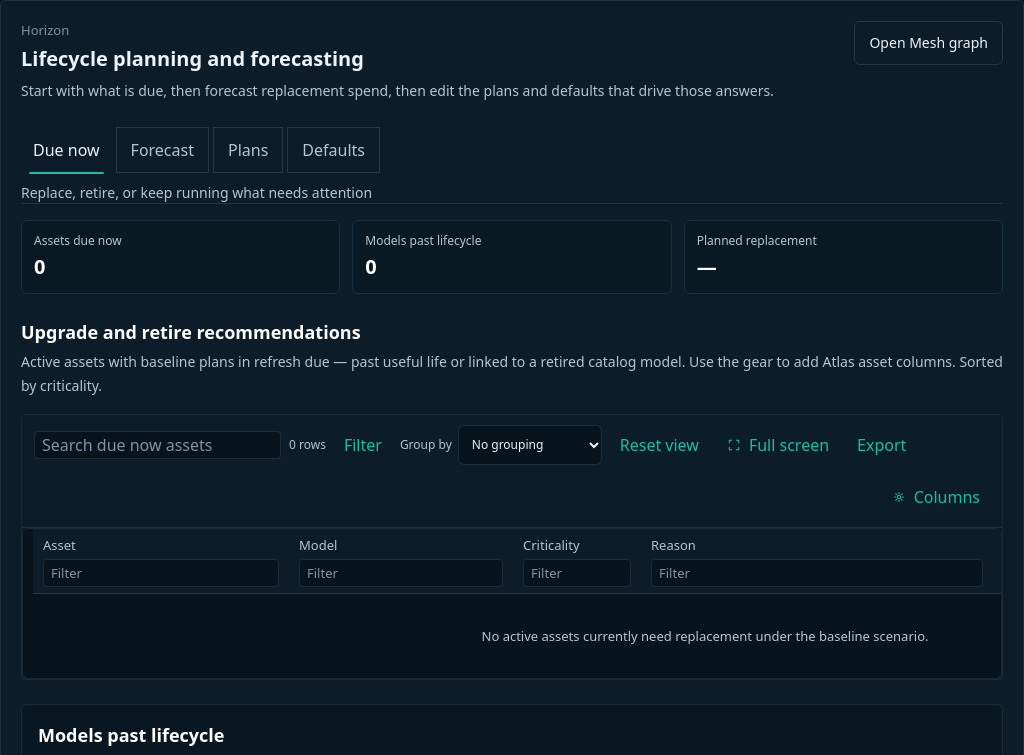
Scenario: lists named replacement plans with asset counts on the Plans tab
Click the tab "Plans" at [248, 150], box [213,126,283,172]
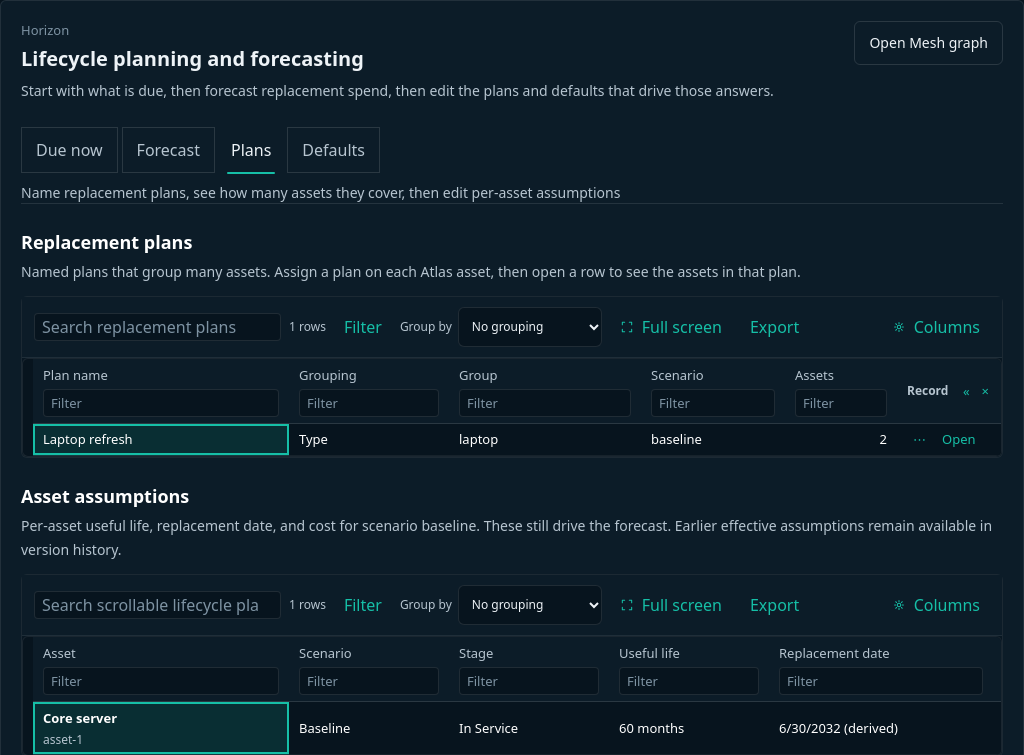
Check: the heading "Replacement plans" is shown, box [21,230,192,254]
Check: the text "Laptop refresh" is shown, box [33,424,289,456]
Check: the text "2" is shown, box [785,424,897,456]
Click the button with aria-label "Open Laptop refresh" at [959, 439], box [936,427,982,451]
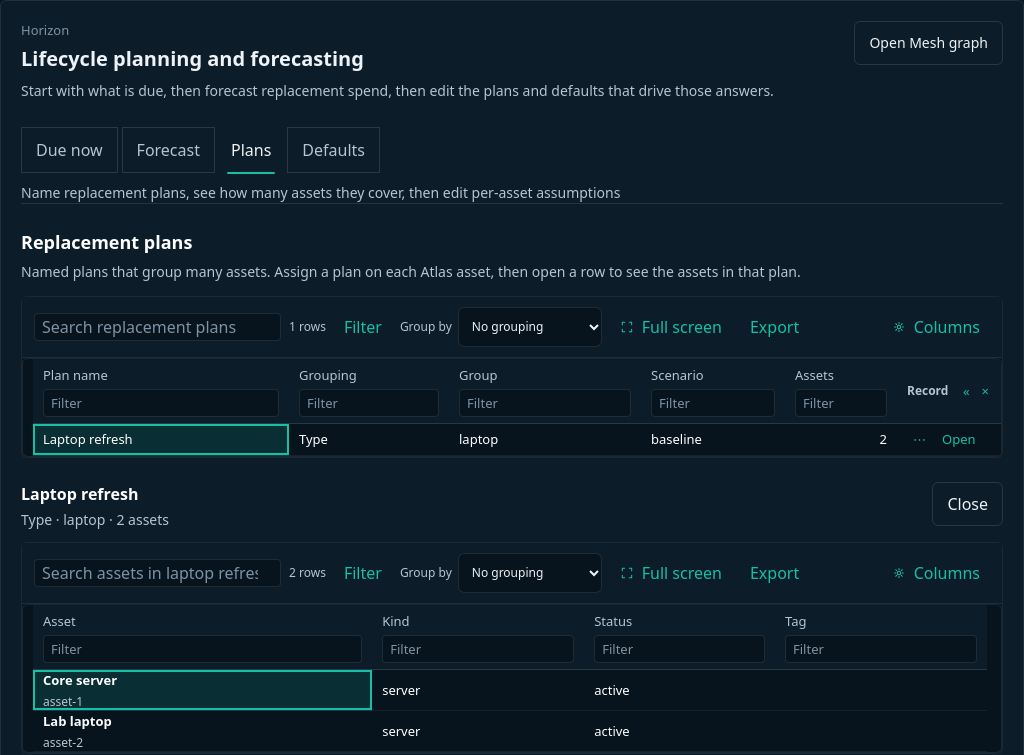
Check: the text "Lab laptop" is shown, box [43,712,112,730]
Check: the text "Type · laptop · 2 assets" is shown, box [21,510,169,530]
